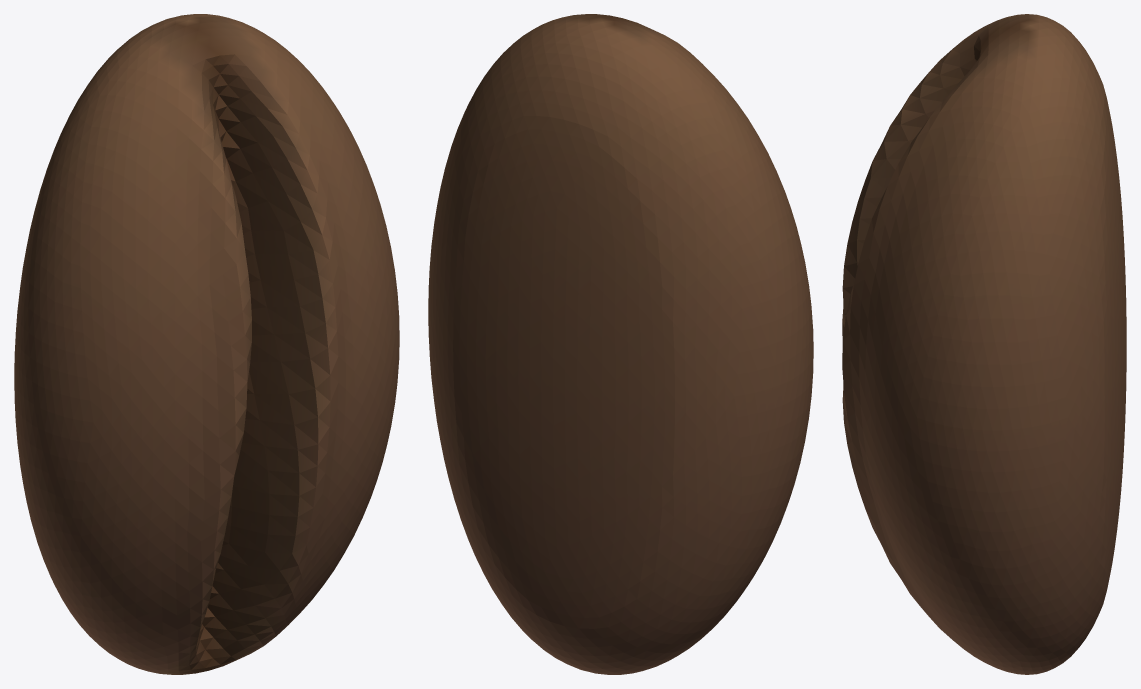
Rendered from coffee-bean.glb.
The picture shows the model from 3 angles, left to right: view 1: azimuth 30°, elevation 25°; view 2: azimuth 150°, elevation 25°; view 3: azimuth 270°, elevation 25°; orthographic projection.
Parts seen in each view (by area): view 1: geometry_0; view 2: geometry_0; view 3: geometry_0.
Part boxes in pixels (left/top/right/bottom): geometry_0: left=14, top=14, right=399, bottom=674; geometry_0: left=428, top=14, right=813, bottom=674; geometry_0: left=842, top=14, right=1126, bottom=674.
Bounding box in the file's own units: 1.64 × 2.84 × 1.15.
